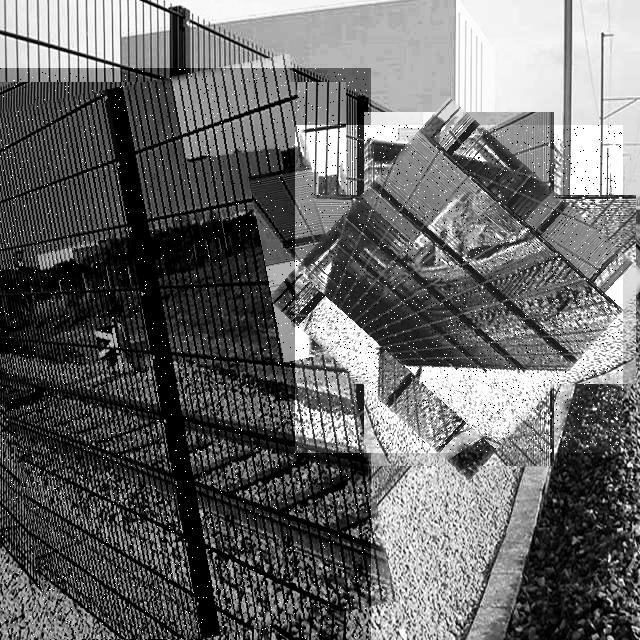fences: (0, 68, 371, 640), (295, 125, 623, 453)
